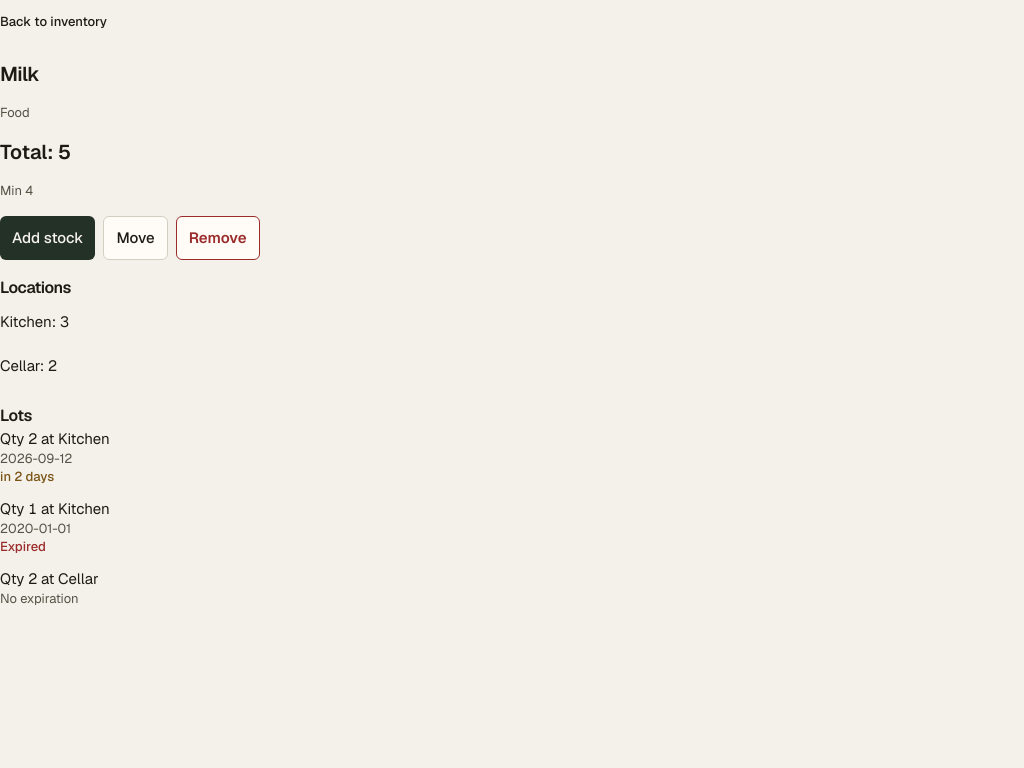
Test: InventoryProductScreen › maps an invalid move from the application layer
The image size is (1024, 768).
Expected: the heading "Milk" is shown, [0,61,39,87]
Click the button "Move".
click(136, 238)  # box [103,216,168,260]
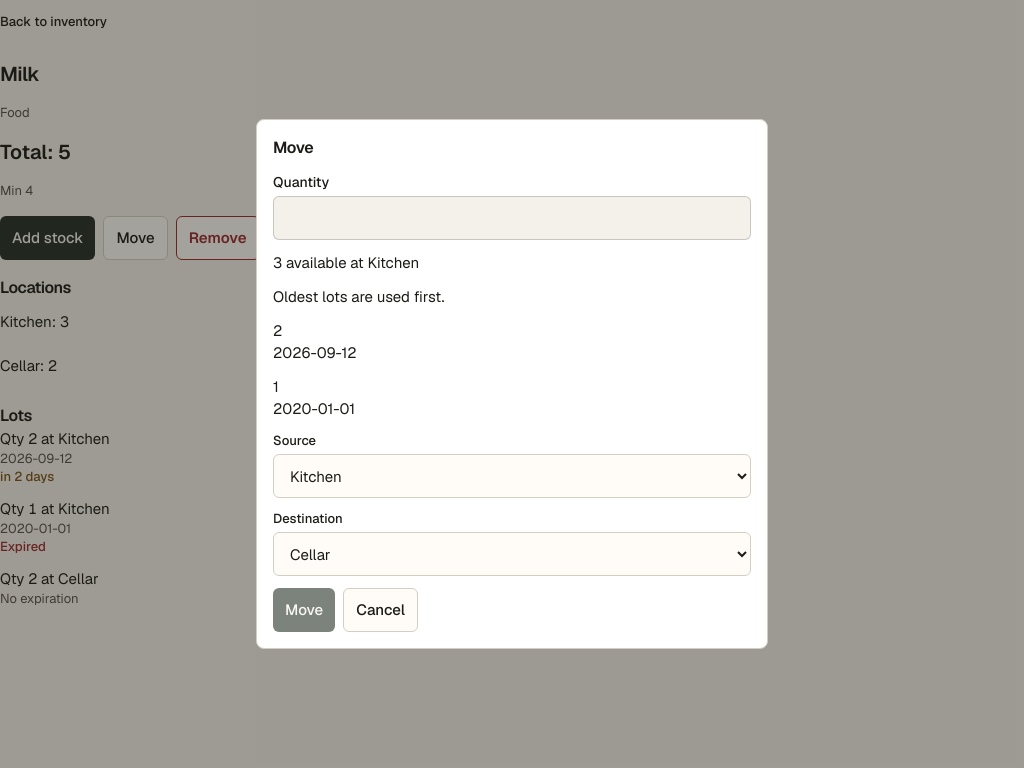
Type "1" into the field labelled "Quantity".
click(512, 218); type("1")  # box [273,196,751,240]
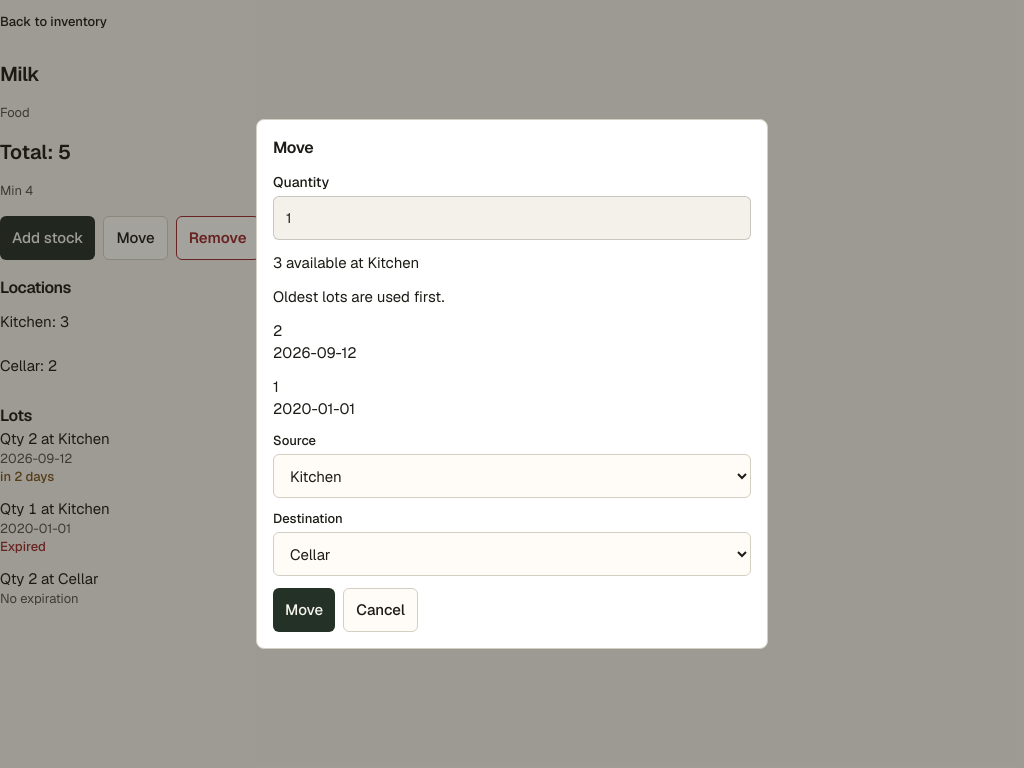
Submit the form named "Move", box [273,172,751,632]
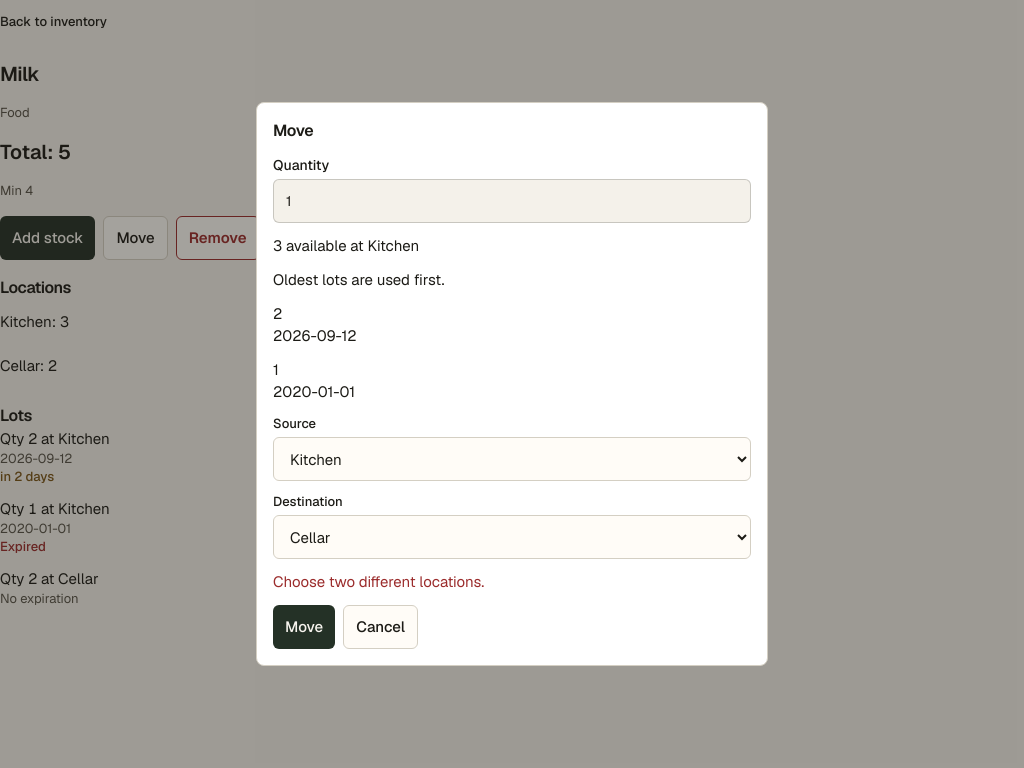
Expected: the dialog "Move" is shown, [256,102,768,666]
Expected: the text "Choose two different locations." is shown, [273,572,484,591]
